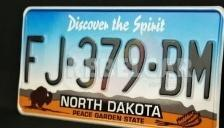3: (75, 35, 99, 90)
7: (97, 36, 123, 92)
9: (120, 37, 149, 93)
B: (158, 38, 185, 96)
F: (22, 33, 45, 85)
J: (43, 34, 68, 87)
M: (186, 39, 215, 101)
